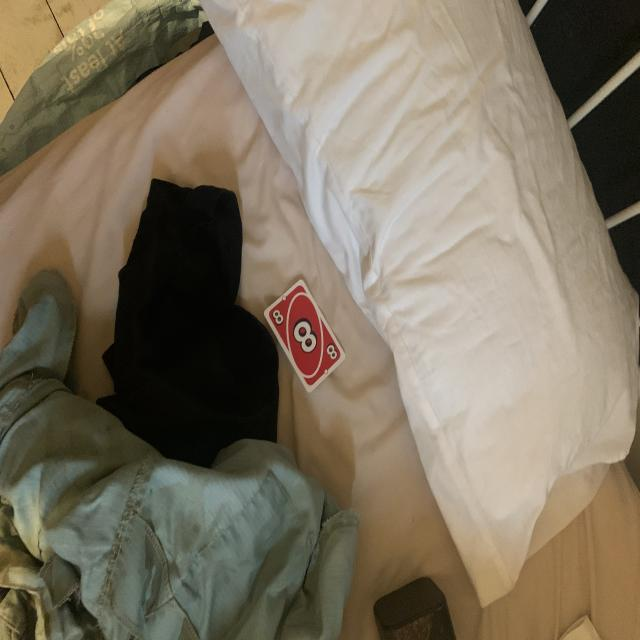lred-8: (270, 306, 286, 330)
